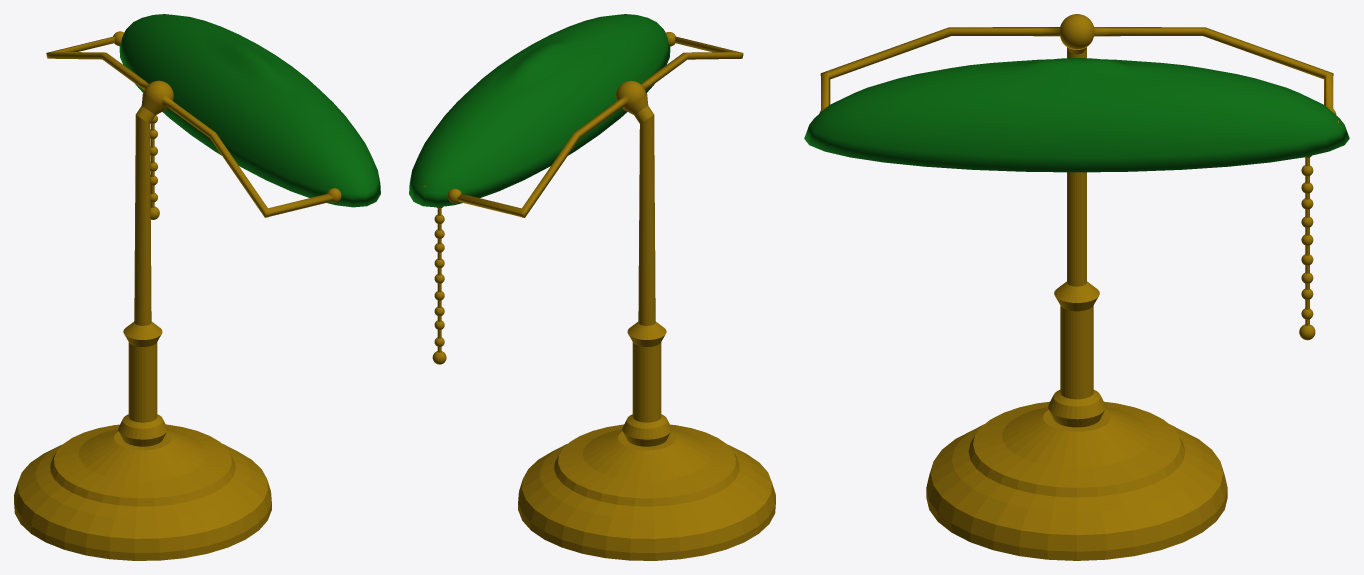
The model's file is bankerlamp.fbx.
The picture shows the model from 3 angles, left to right: view 1: azimuth 30°, elevation 25°; view 2: azimuth 150°, elevation 25°; view 3: azimuth 270°, elevation 25°; orthographic projection. The views are drawn at different scales.
Parts seen in each view (by area): view 1: Cylinder, Sphere, Sphere.001; view 2: Cylinder, Sphere, Sphere.001; view 3: Sphere, Cylinder, Sphere.001.
Part boxes in pixels (x1=…): Cylinder: x1=14, y1=93, x2=271, y2=560; Sphere: x1=119, y1=14, x2=380, y2=207; Sphere.001: x1=46, y1=36, x2=333, y2=217; Cylinder: x1=518, y1=93, x2=775, y2=560; Sphere: x1=409, y1=14, x2=670, y2=207; Sphere.001: x1=457, y1=36, x2=743, y2=217; Sphere: x1=804, y1=58, x2=1349, y2=172; Cylinder: x1=926, y1=37, x2=1227, y2=560; Sphere.001: x1=820, y1=14, x2=1333, y2=109.
Bounding box in the file's own units: 249 × 364 × 362.
